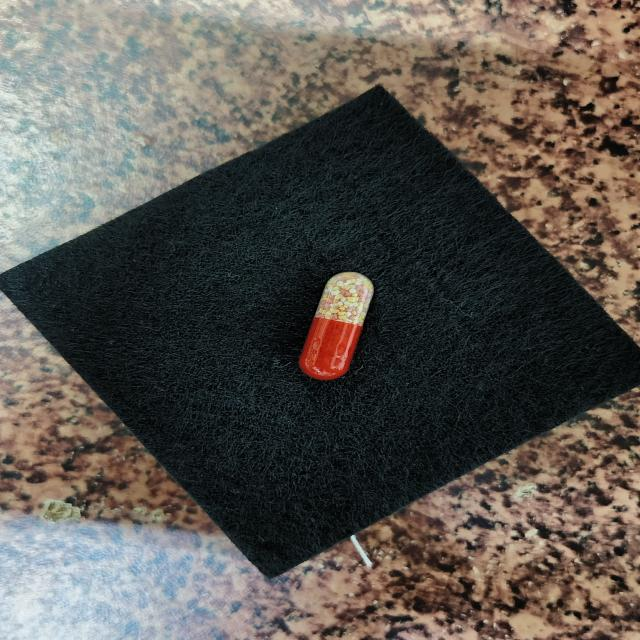Intact Capsule: (299, 272, 374, 380)
